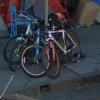Bicycle: (2, 10, 88, 92)
